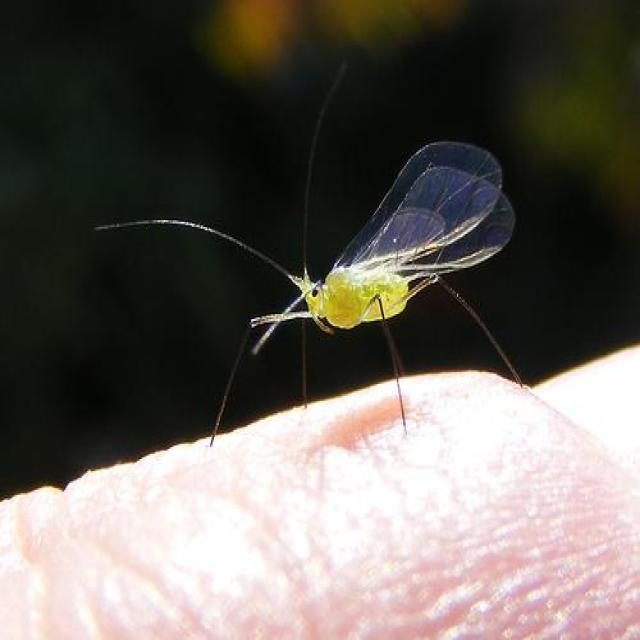Aphids: (157, 146, 545, 424)
